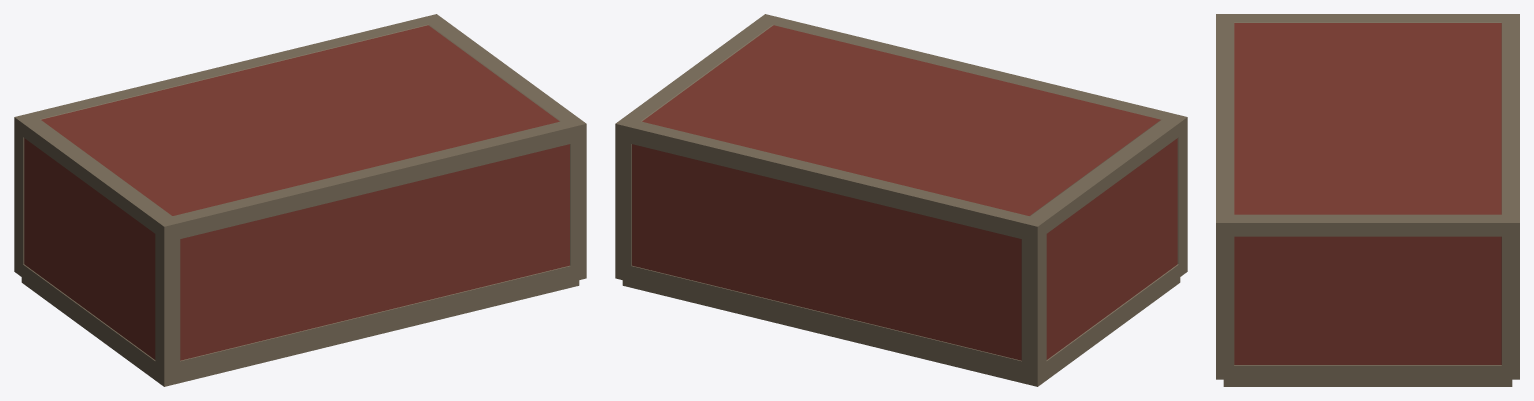
Rendered from ShotgunAmmoBox.fbx.
3 renders of one model, left to right at view 1: azimuth 30°, elevation 25°; view 2: azimuth 150°, elevation 25°; view 3: azimuth 270°, elevation 25°, orthographic.
Visible parts, largest first — view 1: InnerBox, OuterBox, AmmoBox_Bottom; view 2: InnerBox, OuterBox, AmmoBox_Bottom; view 3: InnerBox, OuterBox, AmmoBox_Bottom.
Part boxes in pixels (x1=…): InnerBox: x1=24, y1=25, x2=569, y2=360; OuterBox: x1=14, y1=14, x2=586, y2=381; AmmoBox_Bottom: x1=21, y1=277, x2=579, y2=386; InnerBox: x1=632, y1=25, x2=1177, y2=360; OuterBox: x1=615, y1=14, x2=1187, y2=381; AmmoBox_Bottom: x1=622, y1=277, x2=1180, y2=386; InnerBox: x1=1234, y1=23, x2=1501, y2=364; OuterBox: x1=1216, y1=14, x2=1519, y2=379; AmmoBox_Bottom: x1=1223, y1=379, x2=1512, y2=386.
Bounding box in the file's own units: 2.12 × 0.785 × 1.3.
